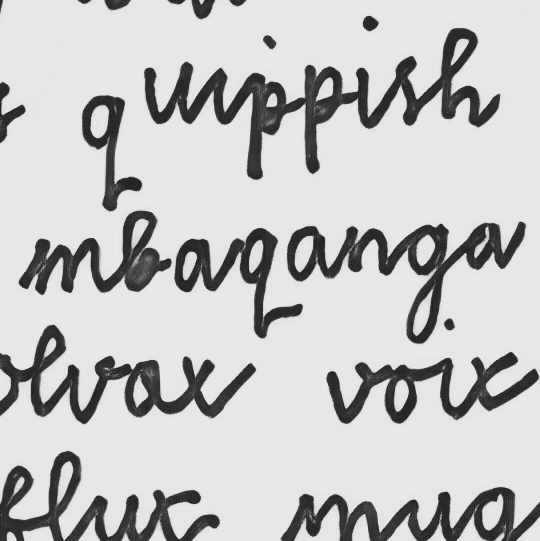a: (283, 223, 329, 284), (171, 235, 216, 296), (461, 220, 503, 273)
b: (118, 208, 162, 294)
g: (402, 219, 452, 347)
m: (33, 234, 104, 297)
n: (342, 223, 390, 275)
q: (236, 226, 279, 341)
